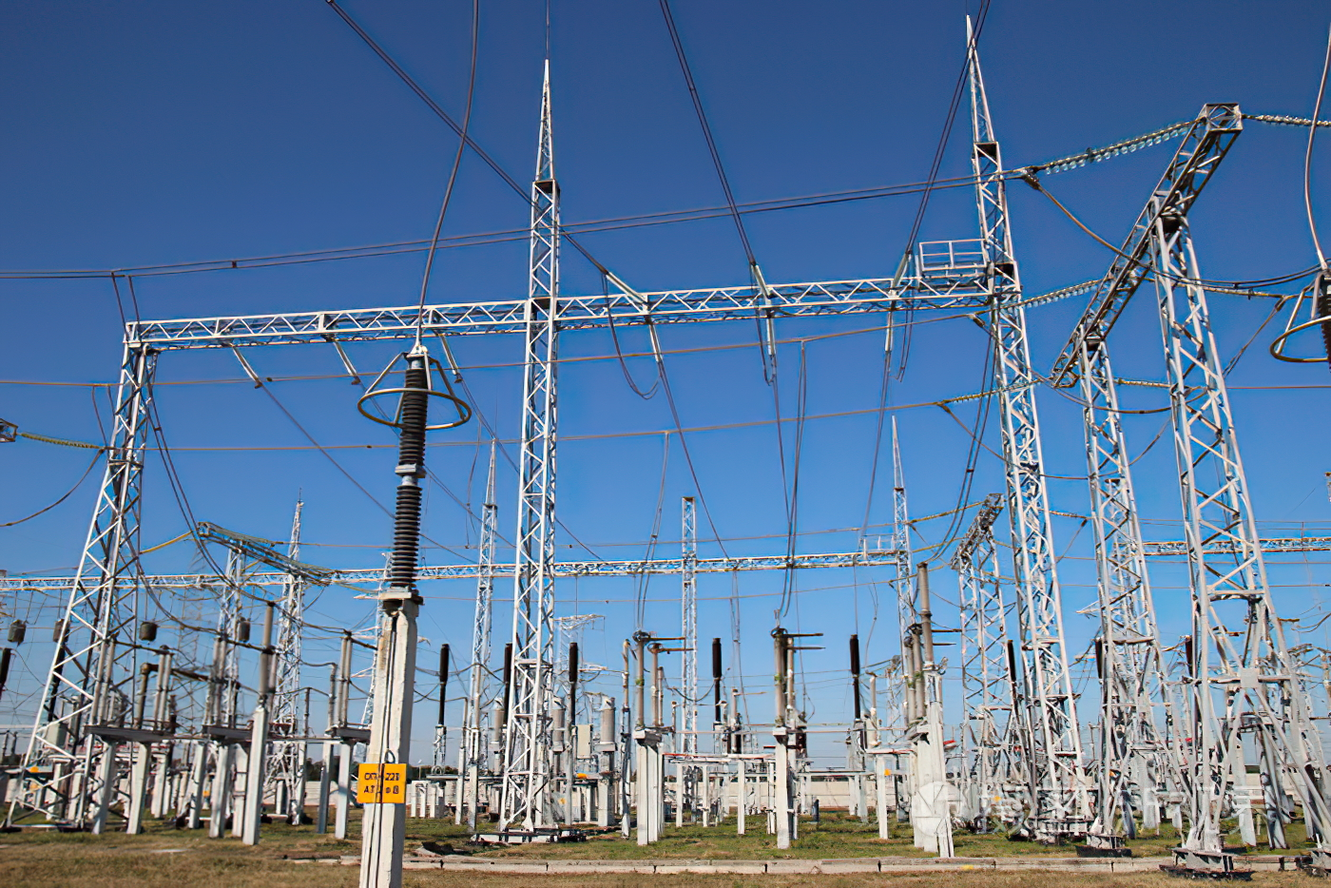insulator: (1042, 119, 1191, 175), (999, 275, 1105, 320), (1253, 112, 1331, 129)
